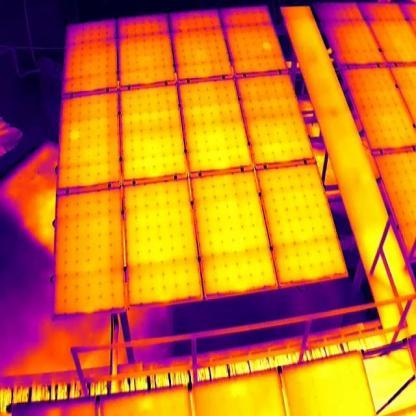anomaly: (67, 129, 82, 143), (261, 41, 273, 52)
